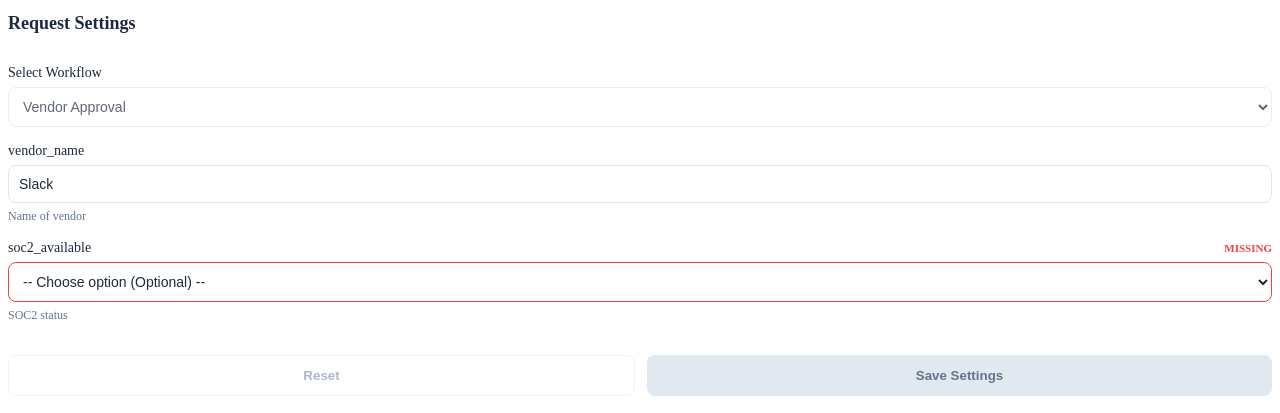
Test: WorkflowForm › disables submit/reset buttons by default, enables them on change, and disables them on reset
Expected: the button "Save Settings" is disabled, x1=647 y1=355 x2=1272 y2=396
Expected: the button "Reset" is disabled, x1=8 y1=355 x2=635 y2=396
Step 1. Replace the text in the field with placeholder "Enter vendor_name..." with "Different Vendor" → (640, 184), box x1=8 y1=165 x2=1272 y2=203
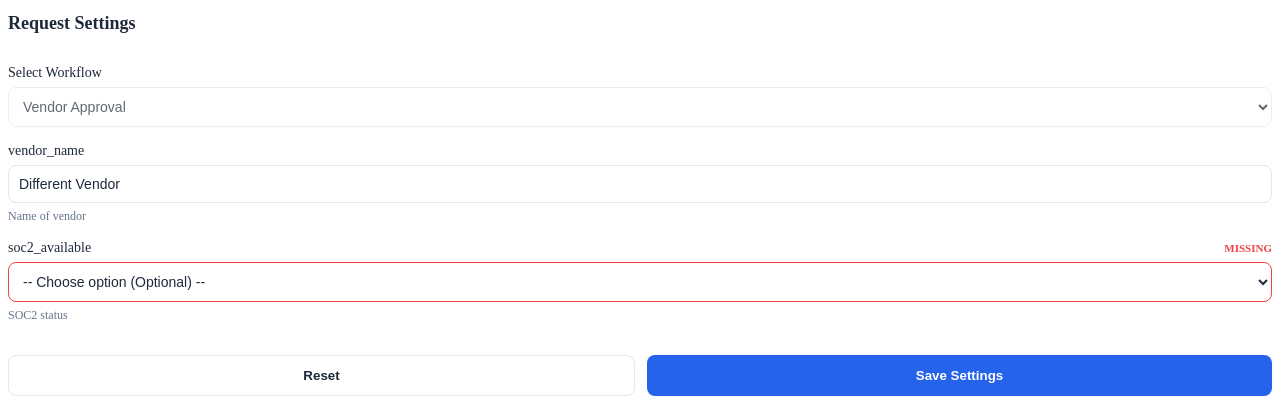
Expected: the button "Save Settings" is enabled, x1=647 y1=355 x2=1272 y2=396
Expected: the button "Reset" is enabled
Step 2. Click the button "Reset" → (322, 375), box x1=8 y1=355 x2=635 y2=396
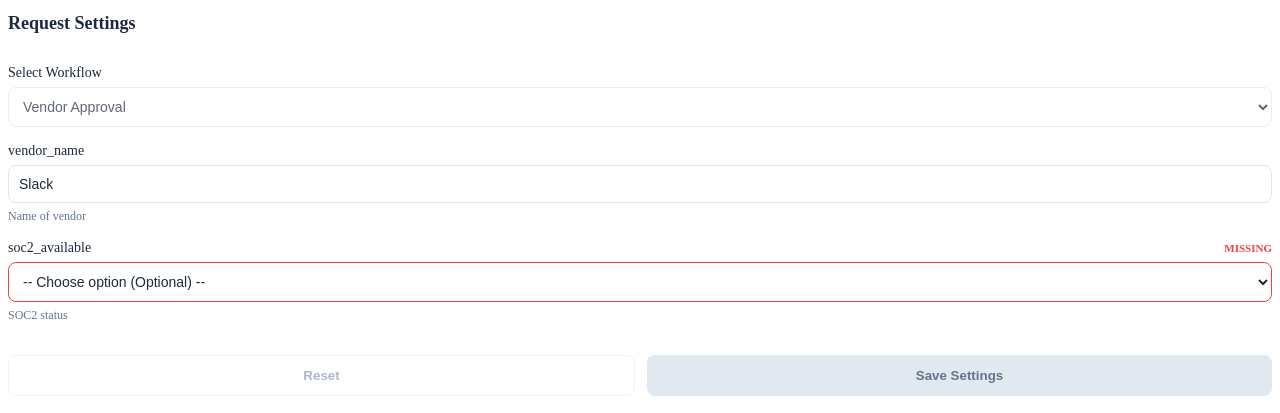
Expected: the field with placeholder "Enter vendor_name..." holds "Slack", x1=8 y1=165 x2=1272 y2=203
Expected: the button "Save Settings" is disabled, x1=647 y1=355 x2=1272 y2=396
Expected: the button "Reset" is disabled, x1=8 y1=355 x2=635 y2=396
